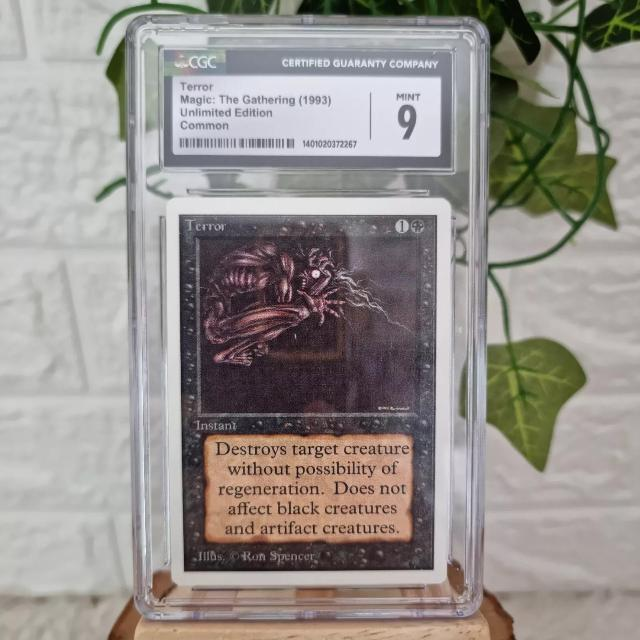card: (166, 197, 453, 586)
cgc_label: (162, 47, 453, 168)
cgc_slab: (125, 14, 489, 619)
